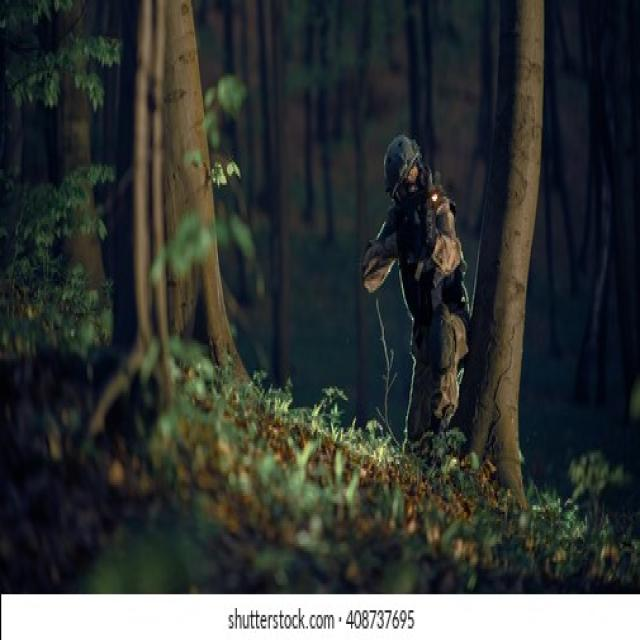Forest: (0, 0, 640, 592)
Militant: (352, 115, 503, 472)
